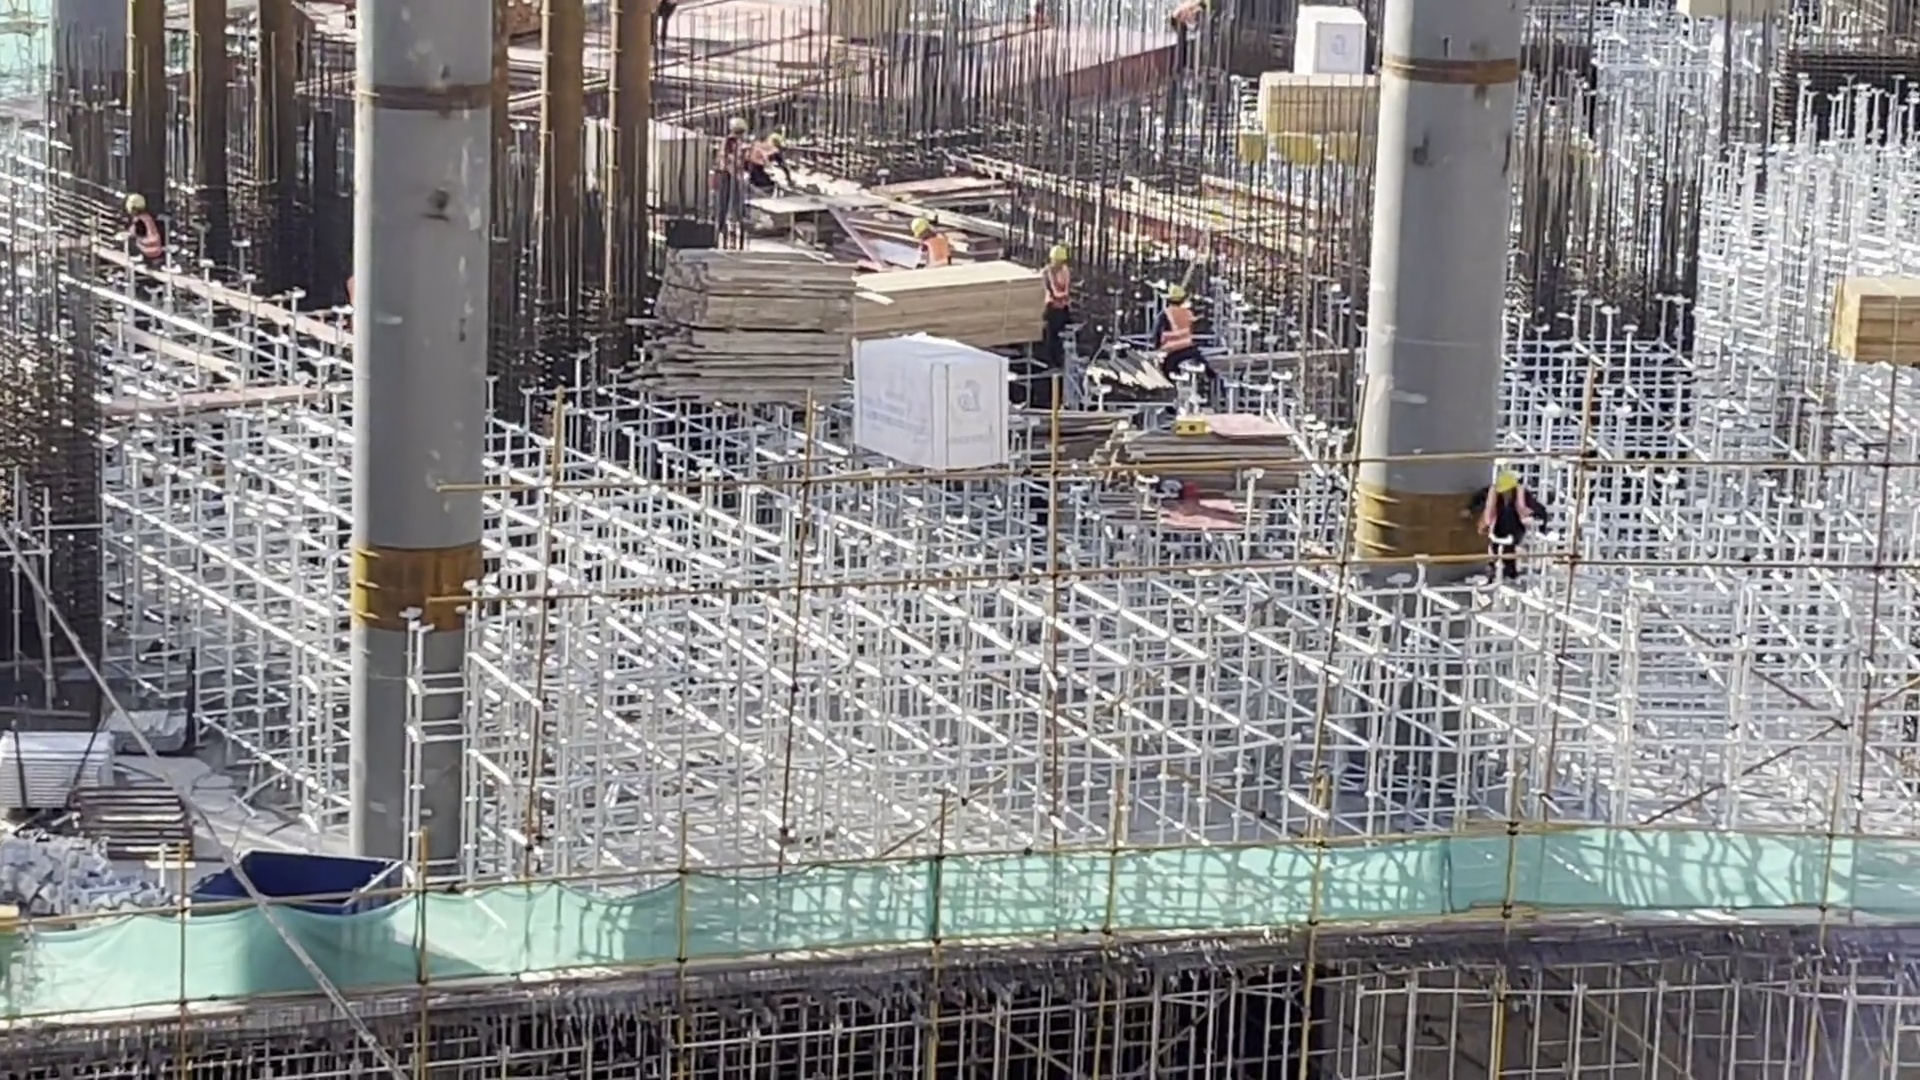board: (1107, 411, 1294, 501)
cutter: (753, 183, 892, 259)
helmet: (116, 195, 152, 218), (1490, 469, 1520, 491), (1165, 283, 1188, 300), (731, 118, 750, 136), (1047, 245, 1068, 260), (908, 220, 928, 233)
hopper: (194, 847, 410, 928)
person: (1467, 463, 1550, 589), (1157, 285, 1224, 387), (711, 113, 754, 222), (112, 192, 161, 280), (1040, 245, 1074, 334), (738, 132, 786, 178), (905, 219, 946, 266)
vest: (1160, 307, 1194, 355), (135, 220, 163, 266), (1045, 265, 1070, 309), (917, 236, 950, 264)
wood: (643, 253, 846, 417), (847, 255, 1053, 358), (1249, 70, 1392, 145), (1827, 265, 1920, 378)
